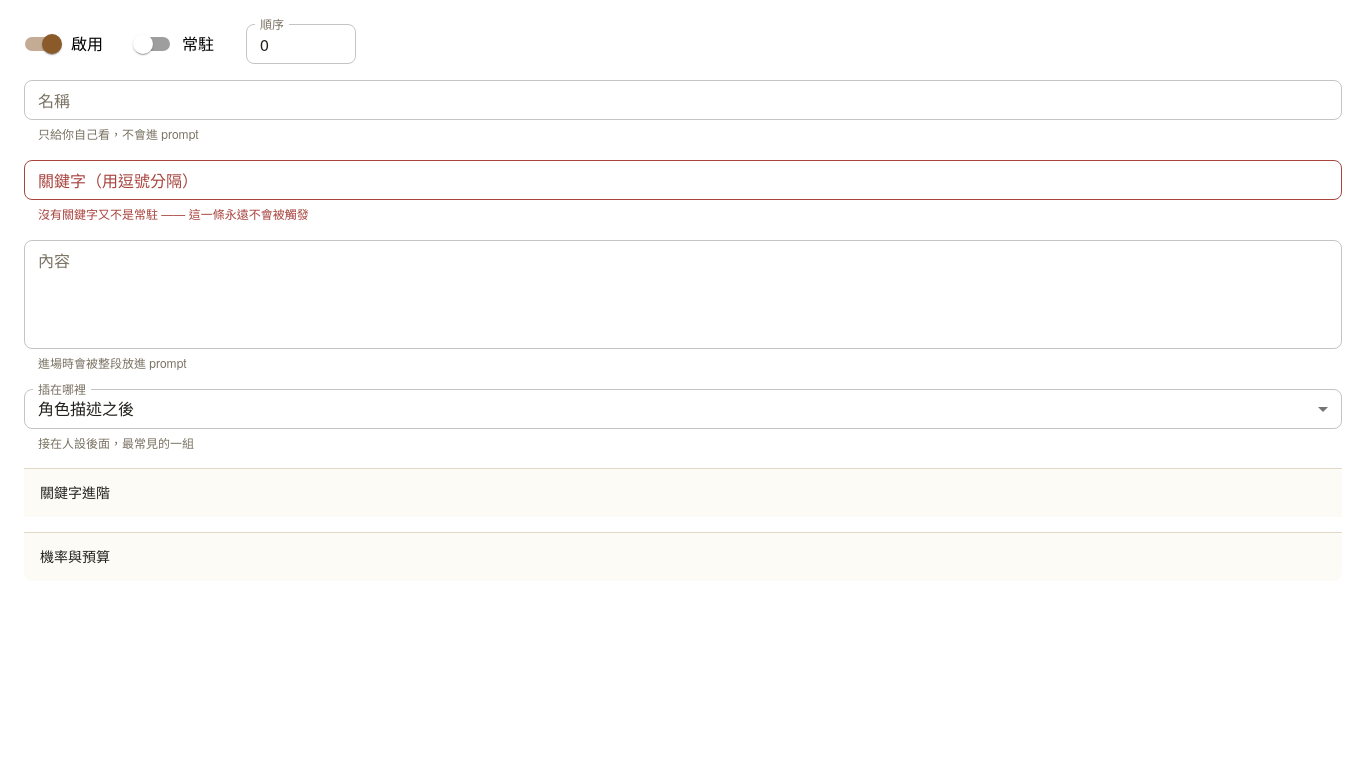
Test case: EntryEditor：插入位置下拉選單 › 🔴 下拉選單一打開，四個未接線的選項標題就帶「尚未接線」——不必等選了才知道
This screenshot has width=1366, height=768.
Press the mouse on the dropdown named "插在哪裡" at point(86, 409), box [38,397,134,420]
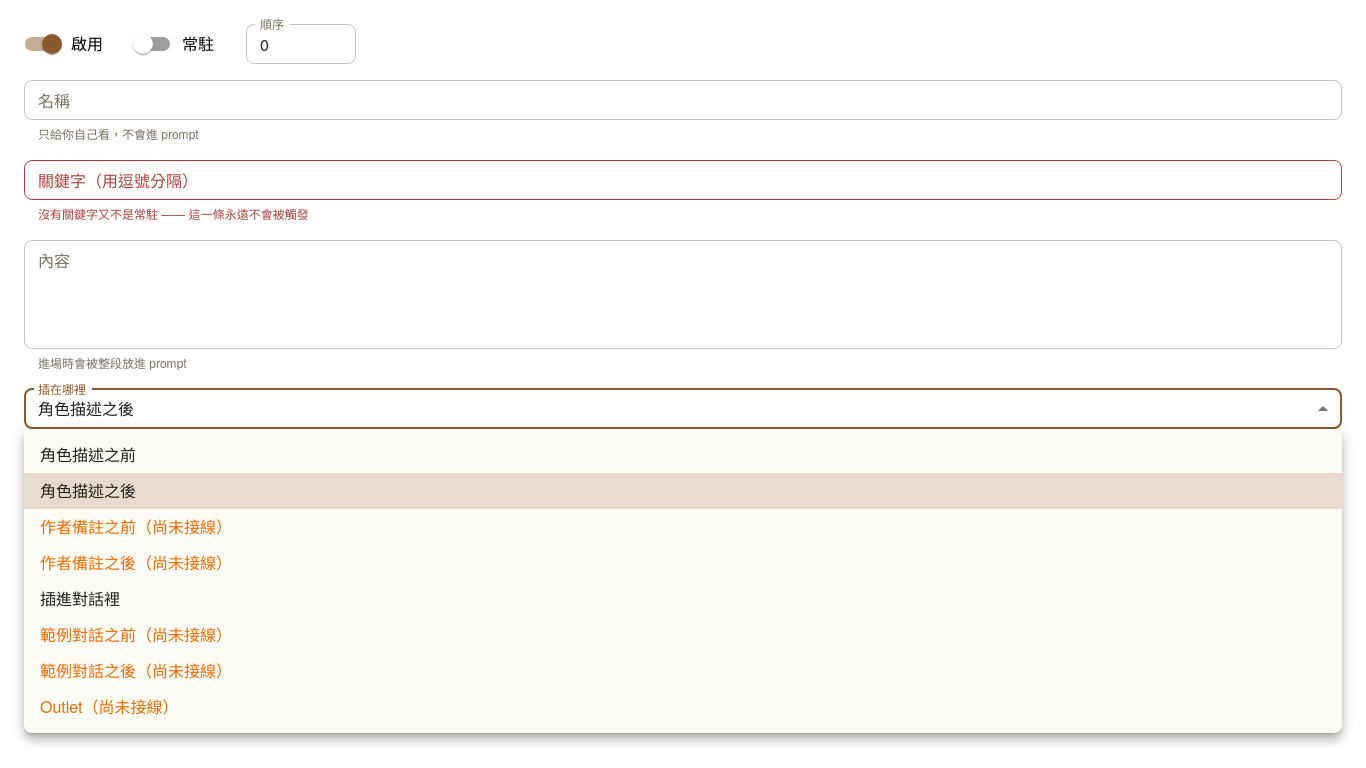
Expected: the option "作者備註之前（尚未接線）" is shown, [40,515,232,538]
Expected: the option "作者備註之後（尚未接線）" is shown, [40,551,232,574]
Expected: the option "範例對話之前（尚未接線）" is shown, [40,623,232,646]
